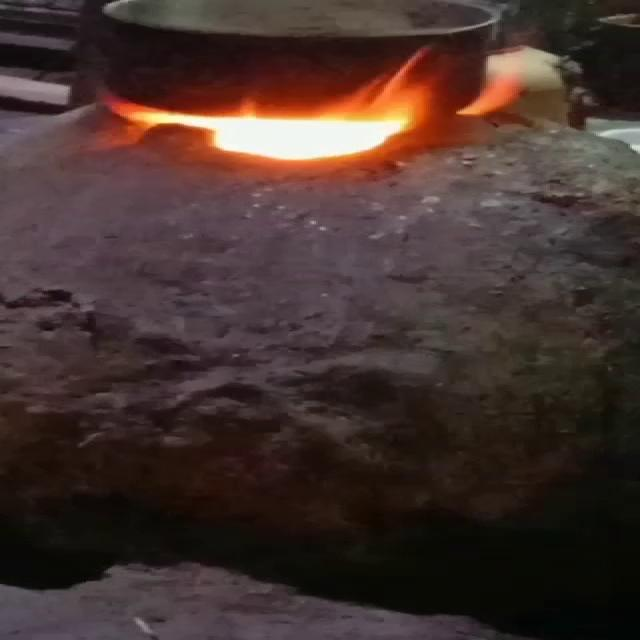Fire: (110, 45, 486, 167)
